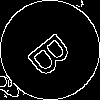B: (25, 25, 81, 80)
